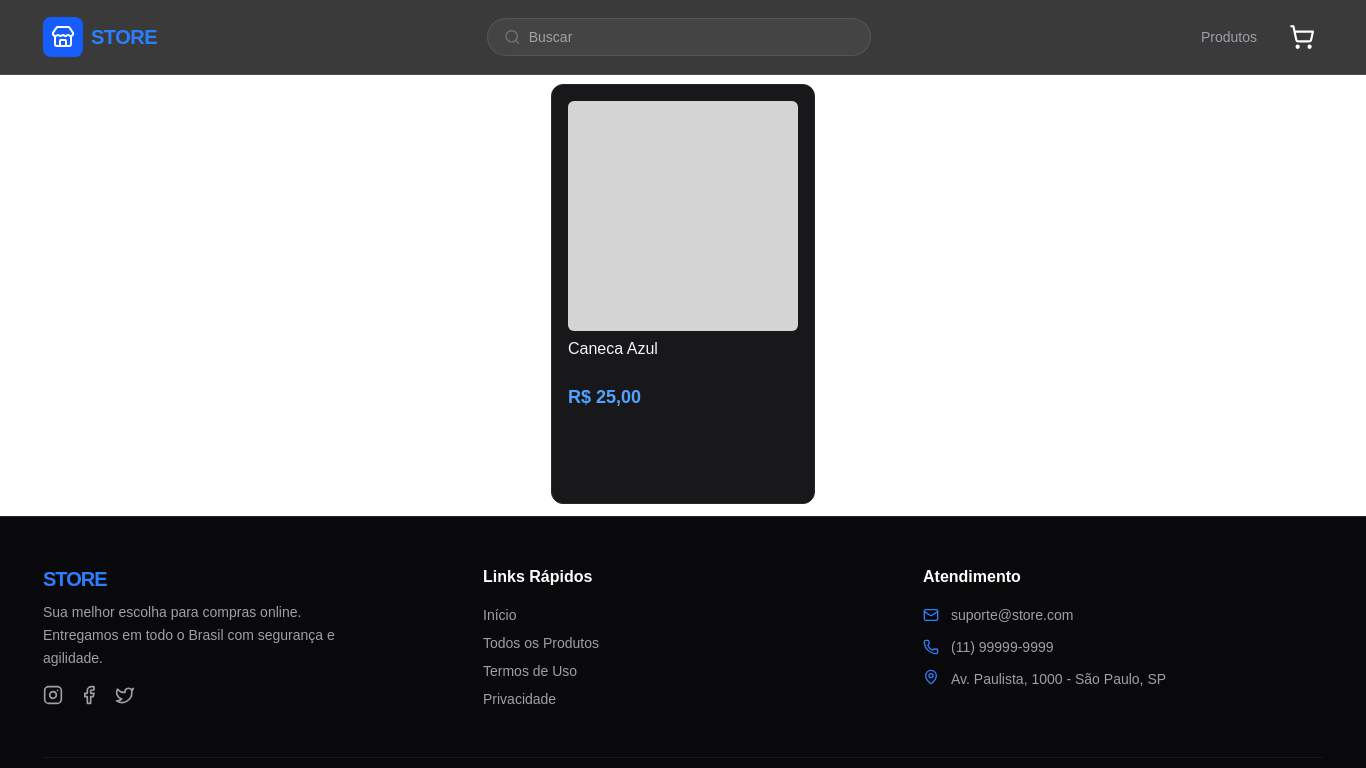
it: home page › it should open the shopping cart sidebar when clicking the cart button
Click the icon with test id "cart-button" at point(1302, 37), box [1289,24,1315,50]
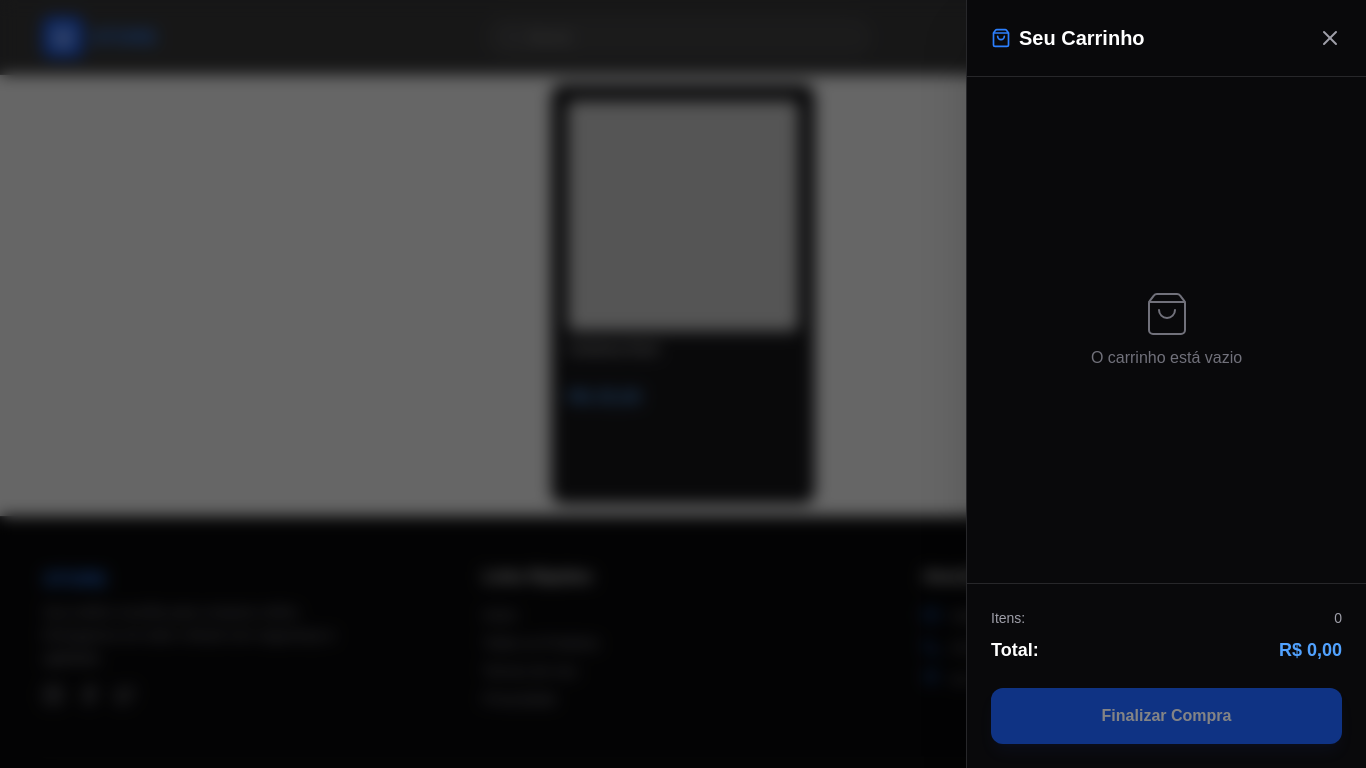
Expected: the heading "Seu Carrinho" is shown, [1019,24,1145,52]
